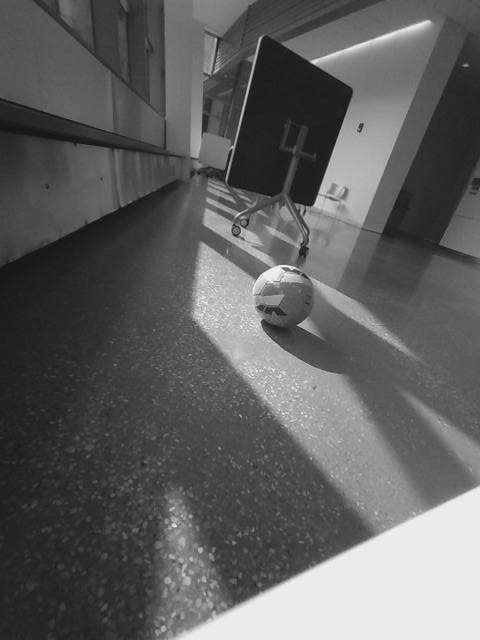ball: (248, 263, 319, 330)
